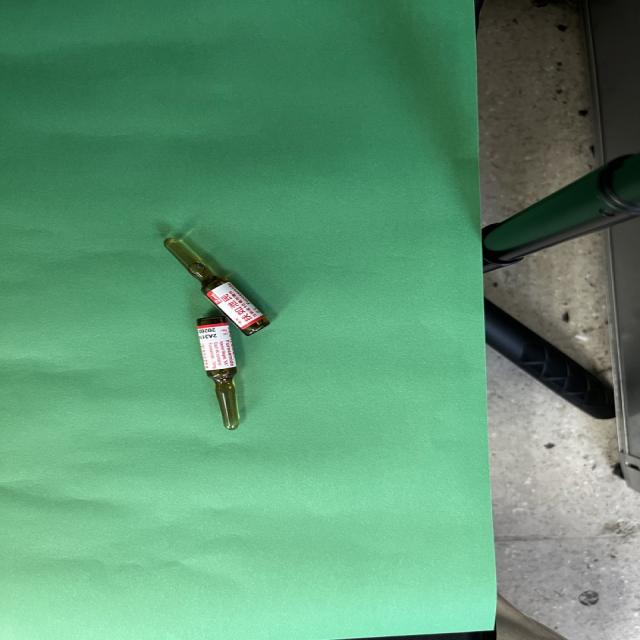Ampoules: (164, 238, 270, 336), (197, 316, 239, 430)
